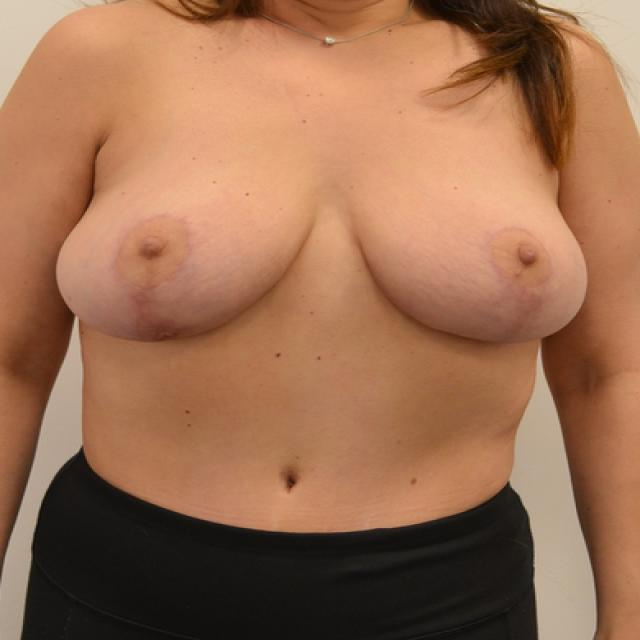Seno herido: (46, 129, 329, 358), (334, 128, 598, 358)
